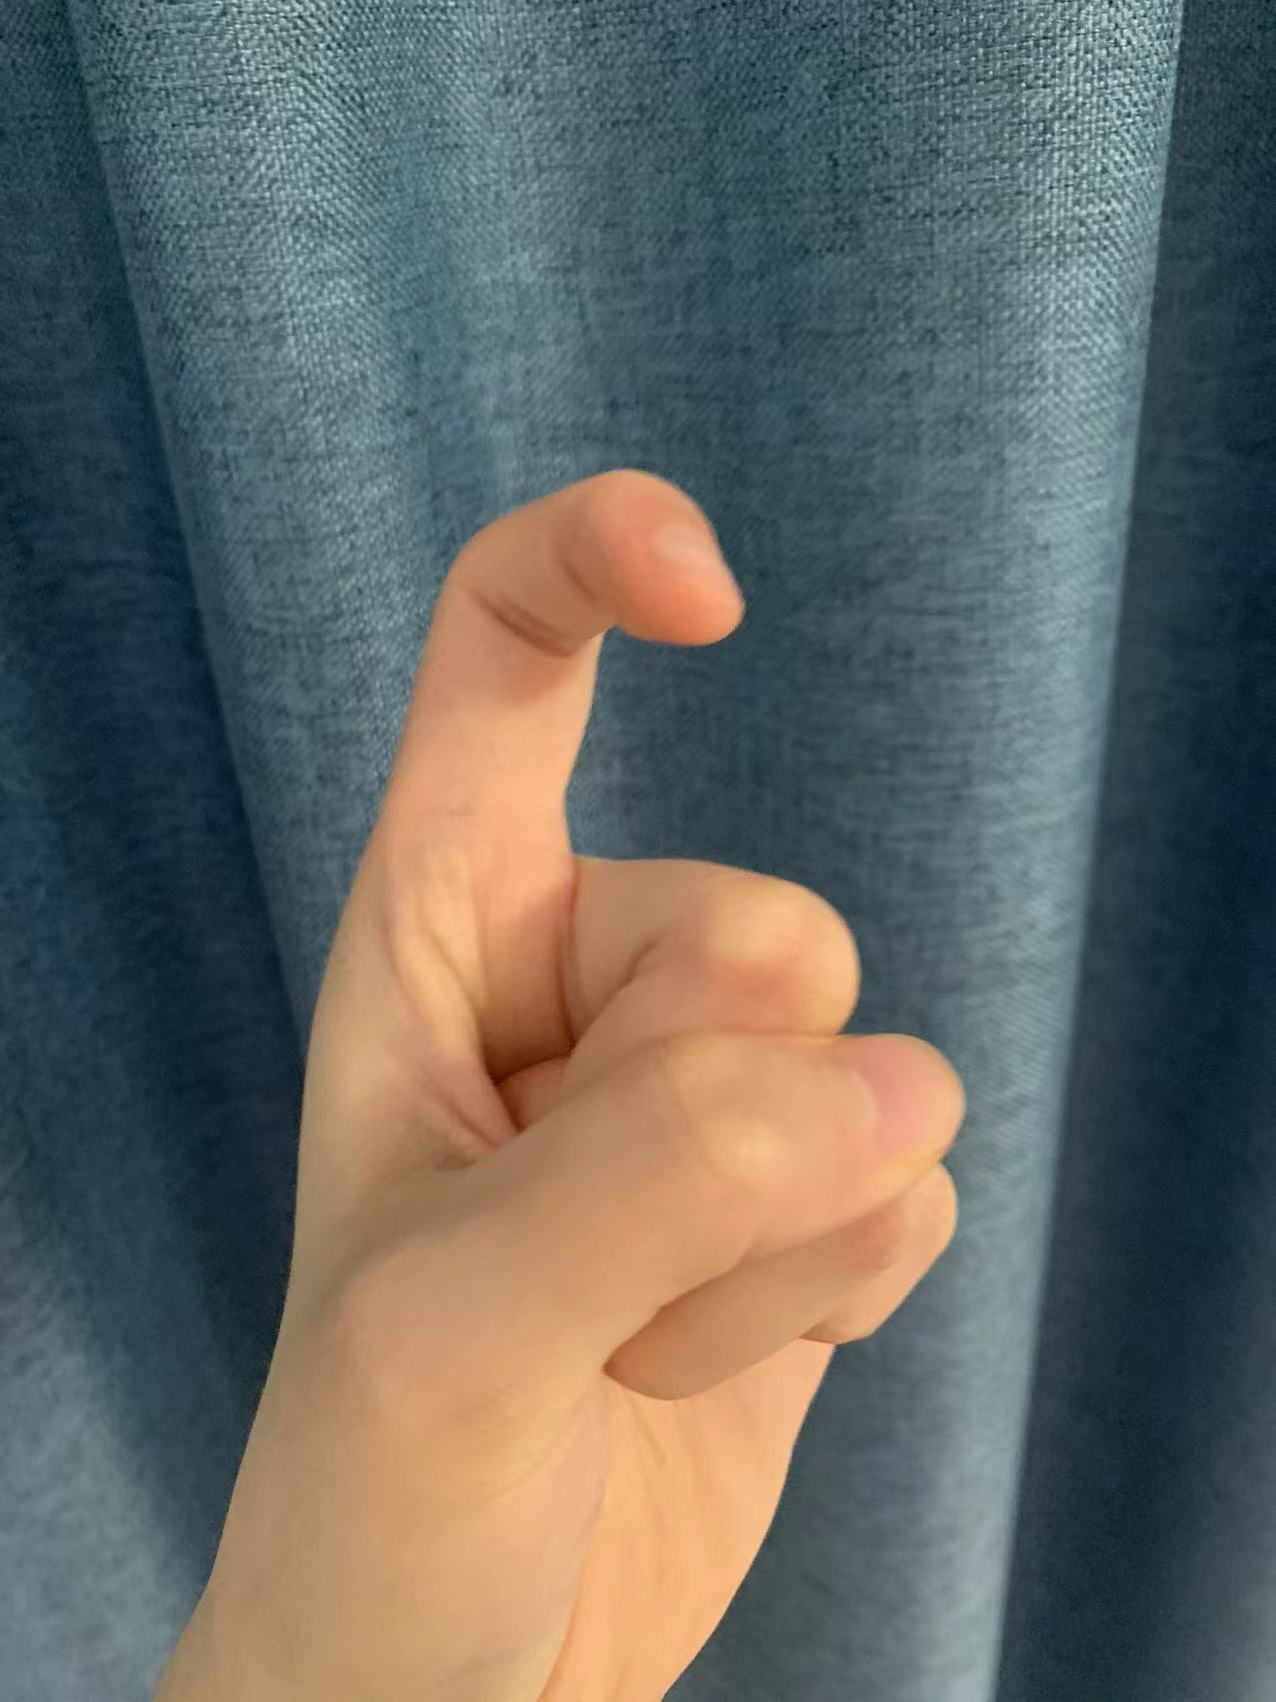anticlockwise: (168, 448, 1003, 1656)
